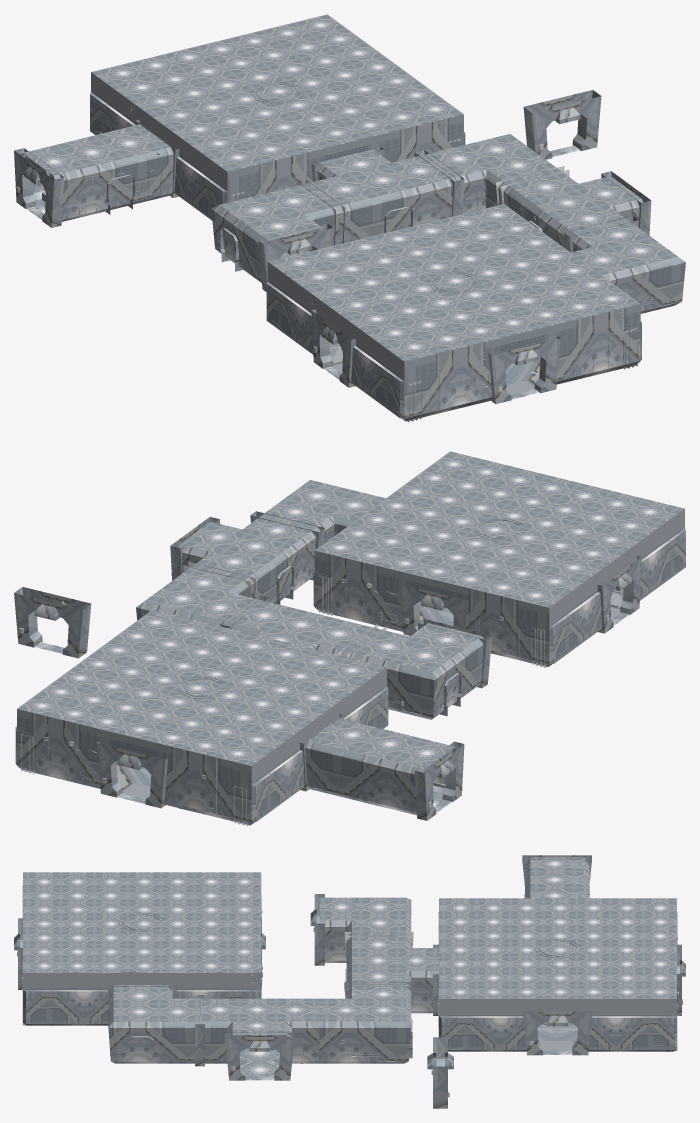
The model's file is Combined_Mesh_root_scene__15_7f71ba4d__ZombiesII_laboratory_03_d_5a0f8016_c1f257.obj.
The picture shows the model from 3 angles, top to bottom: view 1: azimuth 30°, elevation 25°; view 2: azimuth 150°, elevation 25°; view 3: azimuth 270°, elevation 25°; orthographic projection. The views are drawn at different scales.
Size of the model in its own units: 84.62 by 10.34 by 113.
Materials: 591 (591 with a texture image).
